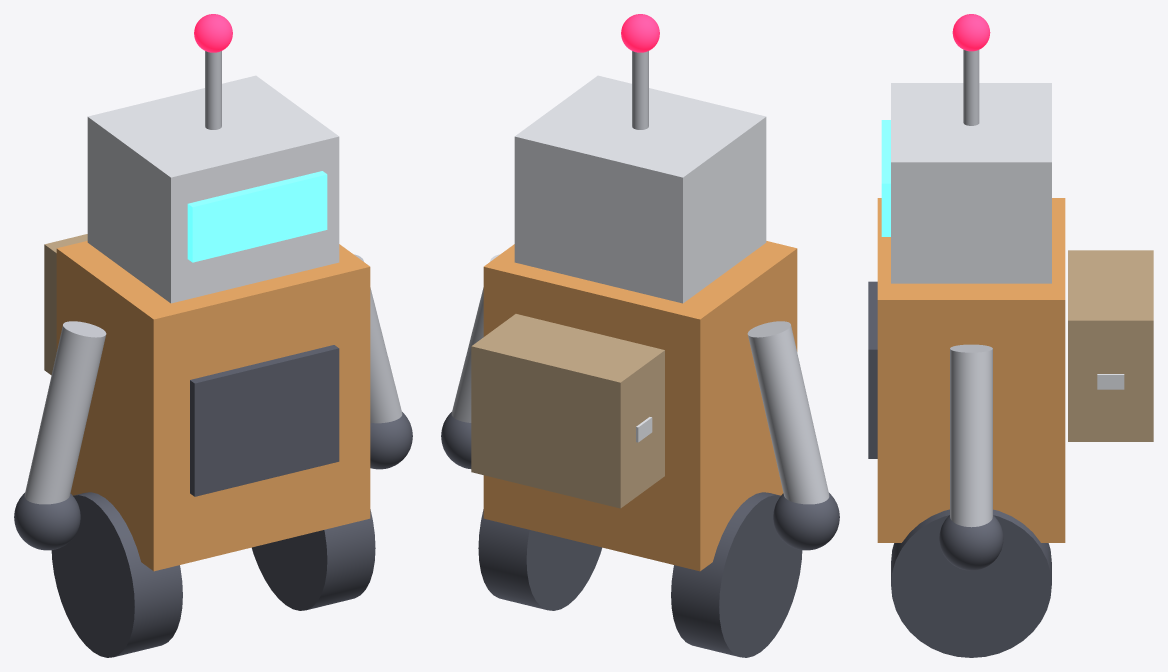
The model's file is robot-courier.glb.
The picture shows the model from 3 angles, left to right: view 1: azimuth 30°, elevation 25°; view 2: azimuth 150°, elevation 25°; view 3: azimuth 270°, elevation 25°; orthographic projection. The views are drawn at different scales.
Size of the model in its own units: 1.62 by 2.41 by 1.06.
